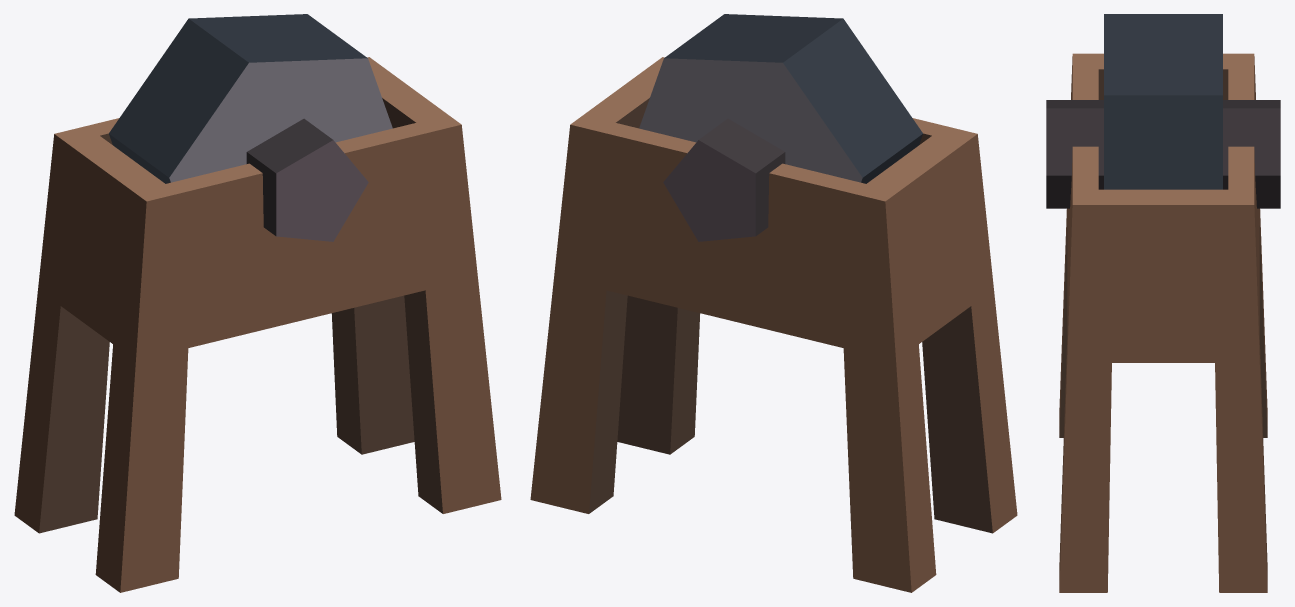
Rendered from TB_Prop_Grinder.FBX.
3 views of the same model, side by side, from view 1: azimuth 30°, elevation 25°; view 2: azimuth 150°, elevation 25°; view 3: azimuth 270°, elevation 25° (orthographic).
Parts seen in each view (by area): view 1: TB_Prop_Grinder, TB_Prop_Grinder_Blade; view 2: TB_Prop_Grinder, TB_Prop_Grinder_Blade; view 3: TB_Prop_Grinder, TB_Prop_Grinder_Blade.
Boxes of the visible parts, x1,y1,x2,y2 form: TB_Prop_Grinder: (14,57,501,592); TB_Prop_Grinder_Blade: (109,14,392,183); TB_Prop_Grinder: (530,57,1017,592); TB_Prop_Grinder_Blade: (639,14,922,183); TB_Prop_Grinder: (1046,53,1280,592); TB_Prop_Grinder_Blade: (1104,14,1222,189).
Bounding box in the file's own units: 1.03 × 1.23 × 0.5563.
